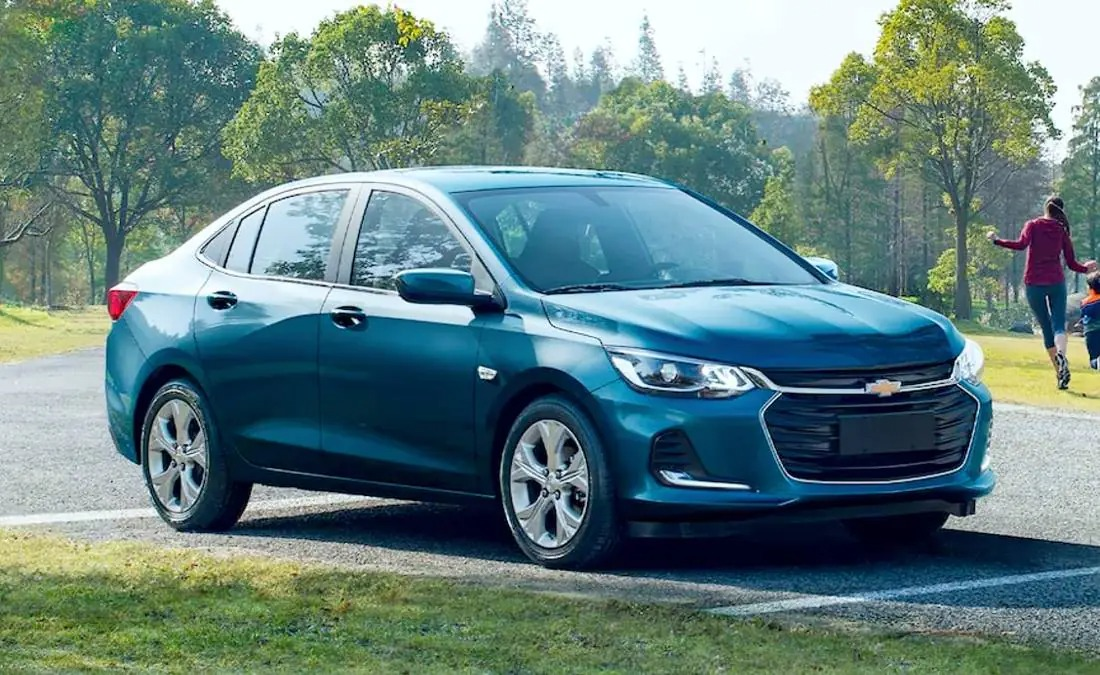car: (70, 157, 1011, 572)
